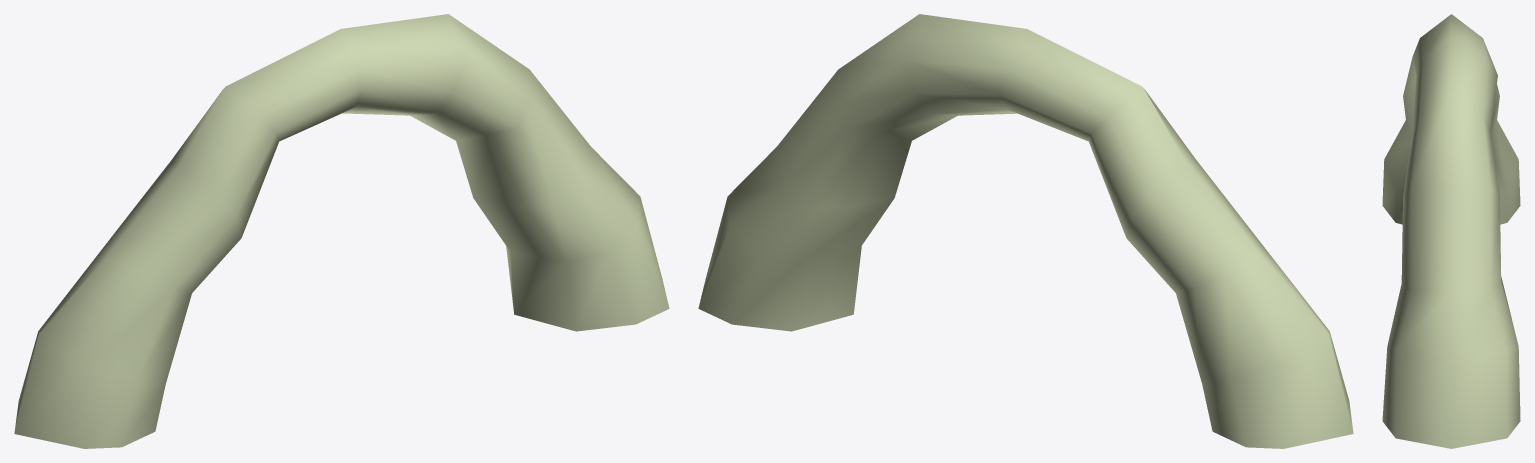
3 renders of one model, left to right at view 1: azimuth 30°, elevation 25°; view 2: azimuth 150°, elevation 25°; view 3: azimuth 270°, elevation 25°, orthographic. The views are drawn at different scales.
Visible parts, largest first — view 1: Object45; view 2: Object45; view 3: Object45.
Boxes of the visible parts, <box> form: Object45: <box>14,14,669,448</box>; Object45: <box>698,14,1353,448</box>; Object45: <box>1382,14,1520,448</box>.
Size of the model in its own units: 819 by 396 by 178.
